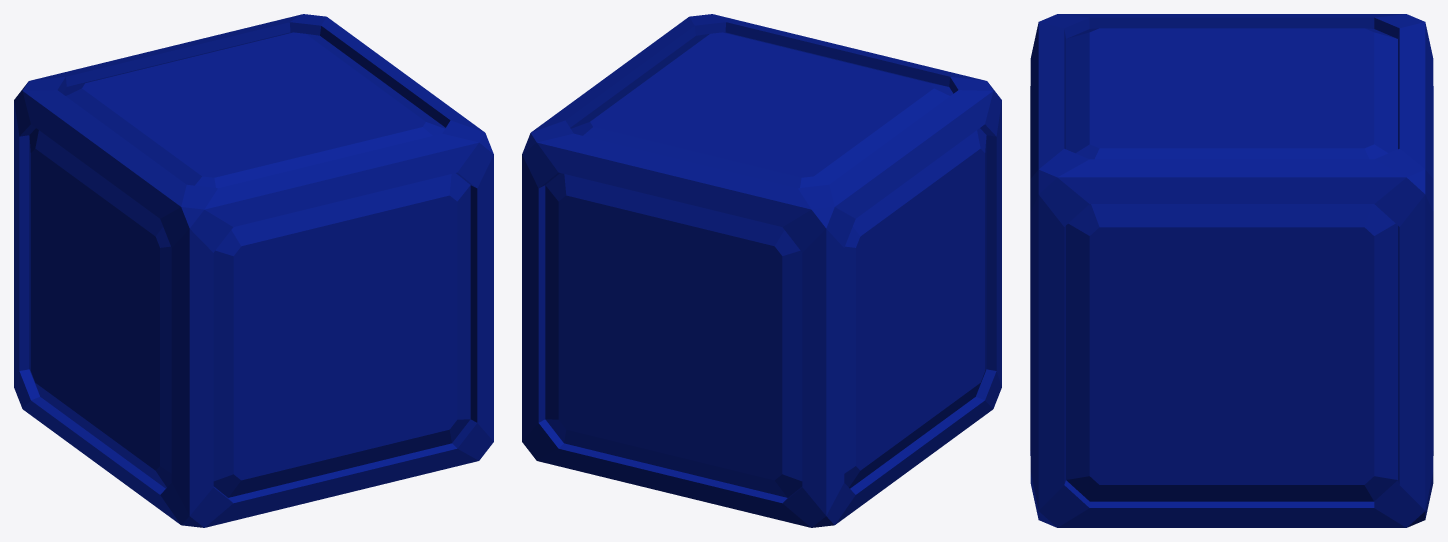
File: BoxLow2.fbx
The picture shows the model from 3 angles, left to right: view 1: azimuth 30°, elevation 25°; view 2: azimuth 150°, elevation 25°; view 3: azimuth 270°, elevation 25°; orthographic projection. The views are drawn at different scales.
Parts seen in each view (by area): view 1: Box003; view 2: Box003; view 3: Box003.
Part boxes in pixels (x1=…): Box003: x1=14, y1=14, x2=493, y2=527; Box003: x1=522, y1=14, x2=1001, y2=527; Box003: x1=1030, y1=14, x2=1433, y2=527.
Size of the model in its own units: 85 by 84.97 by 85.
